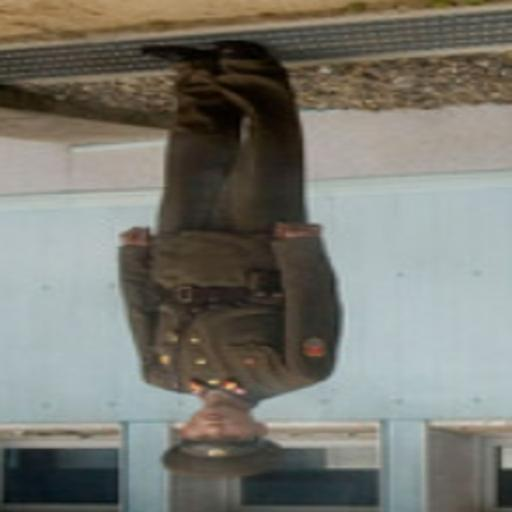north army: (94, 38, 340, 487)
